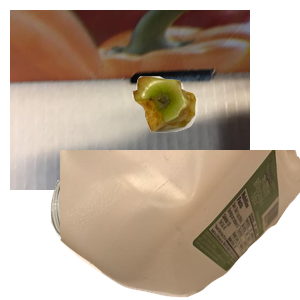cardboard: (10, 10, 250, 190)
glass: (48, 156, 260, 300)
plastic: (60, 150, 300, 300)
trash: (130, 74, 300, 199)
